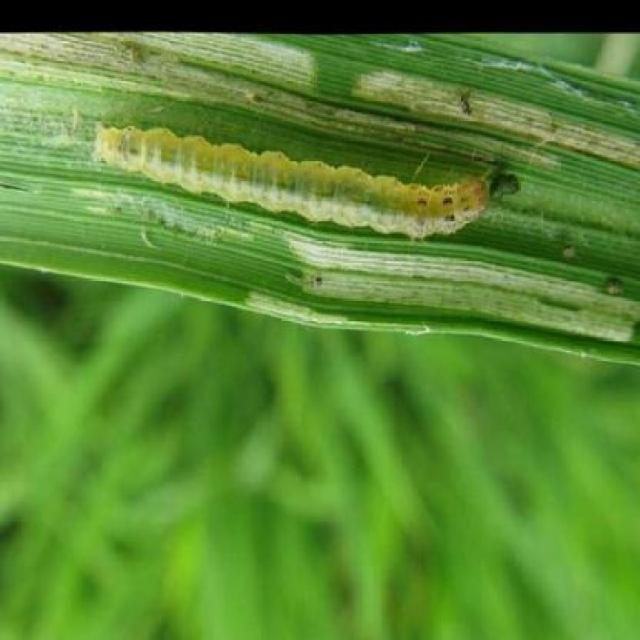leaf-folder: (64, 100, 525, 274)
